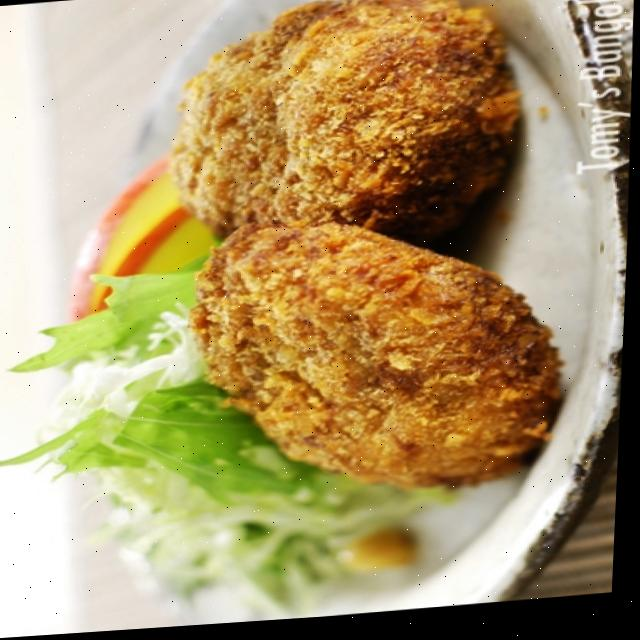炸货点心: (156, 0, 588, 531)
